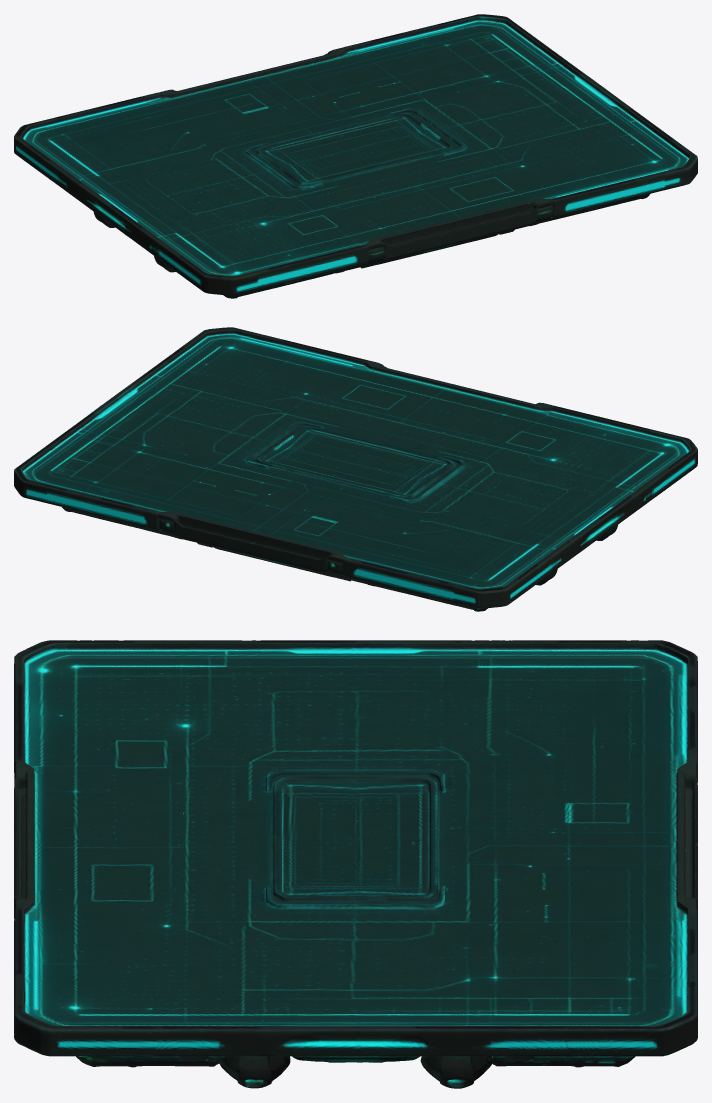
The model's file is Meshy_AI_Holographic_UI_Panel__0624134228_image-to-3d-texture.glb.
The picture shows the model from 3 angles, top to bottom: view 1: azimuth 30°, elevation 25°; view 2: azimuth 150°, elevation 25°; view 3: azimuth 270°, elevation 25°; orthographic projection. The views are drawn at different scales.
Size of the model in its own units: 1.9 by 0.205 by 1.41.
Materials: 1 (1 with a texture image).
